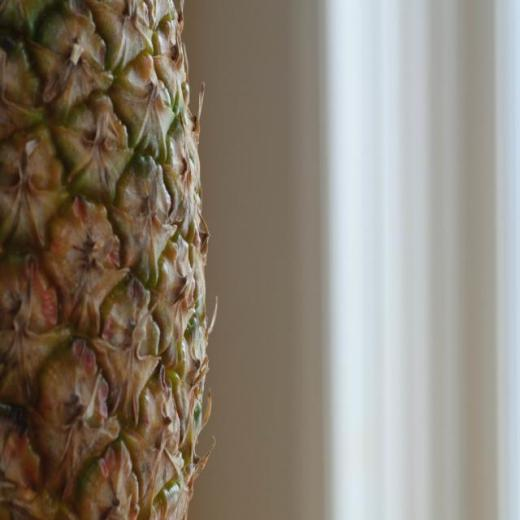Mango: (0, 0, 219, 519)
